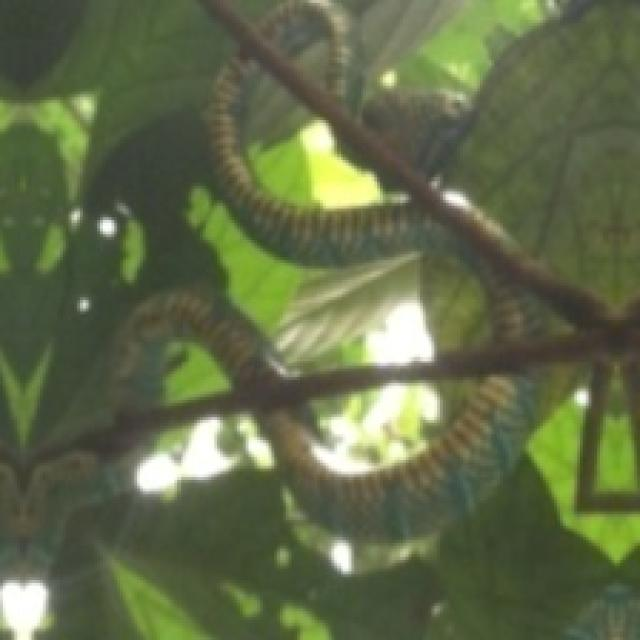north ph temple pitviper: (117, 0, 637, 537)
